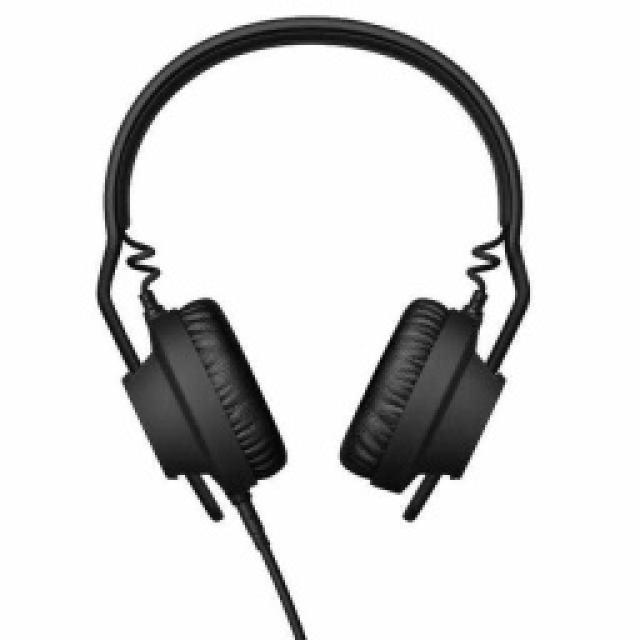headphones: (92, 12, 530, 522)
